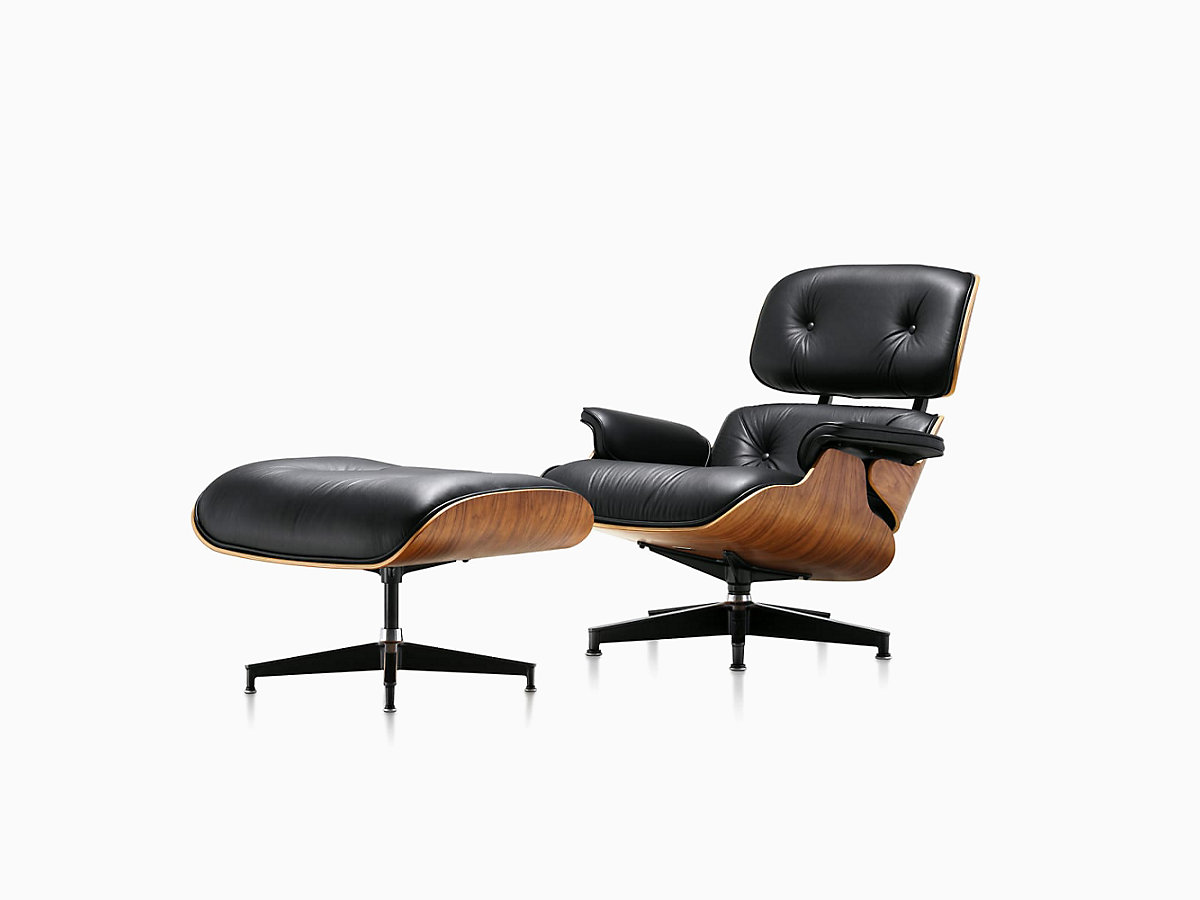chairs: (552, 239, 978, 677), (184, 458, 593, 725)
